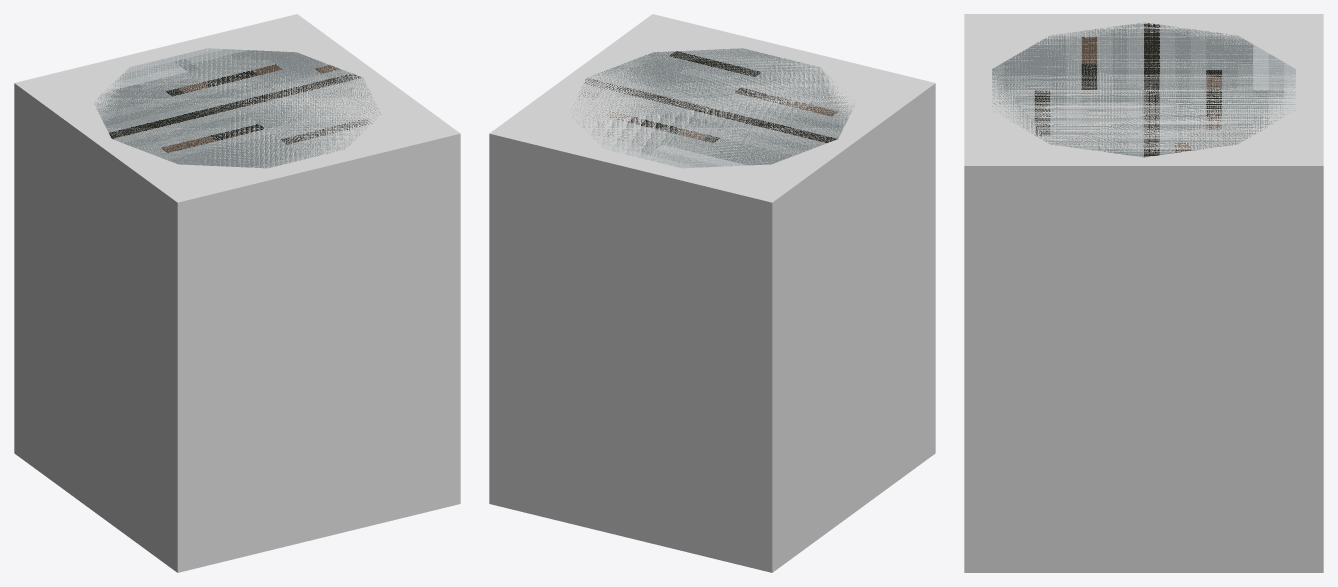
File: JP_Prop_Barrel_A.glb
3 views of the same model, side by side, from view 1: azimuth 30°, elevation 25°; view 2: azimuth 150°, elevation 25°; view 3: azimuth 270°, elevation 25° (orthographic). The views are drawn at different scales.
Parts seen in each view (by area): view 1: COL_JP_Prop_Barrel_A, JP_Prop_Barrel_A; view 2: COL_JP_Prop_Barrel_A, JP_Prop_Barrel_A; view 3: COL_JP_Prop_Barrel_A, JP_Prop_Barrel_A.
Part boxes in pixels (bbox=[...]): COL_JP_Prop_Barrel_A: bbox=[14, 14, 460, 572]; JP_Prop_Barrel_A: bbox=[94, 48, 381, 168]; COL_JP_Prop_Barrel_A: bbox=[489, 14, 935, 572]; JP_Prop_Barrel_A: bbox=[573, 48, 854, 168]; COL_JP_Prop_Barrel_A: bbox=[964, 14, 1323, 572]; JP_Prop_Barrel_A: bbox=[992, 22, 1295, 157].
Bounding box in the file's own units: 0.72 × 0.9 × 0.72.
3 materials, 3 textured.
